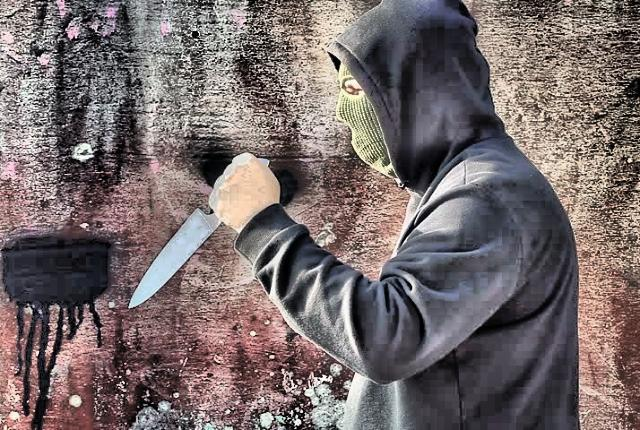knife: (120, 152, 250, 313)
